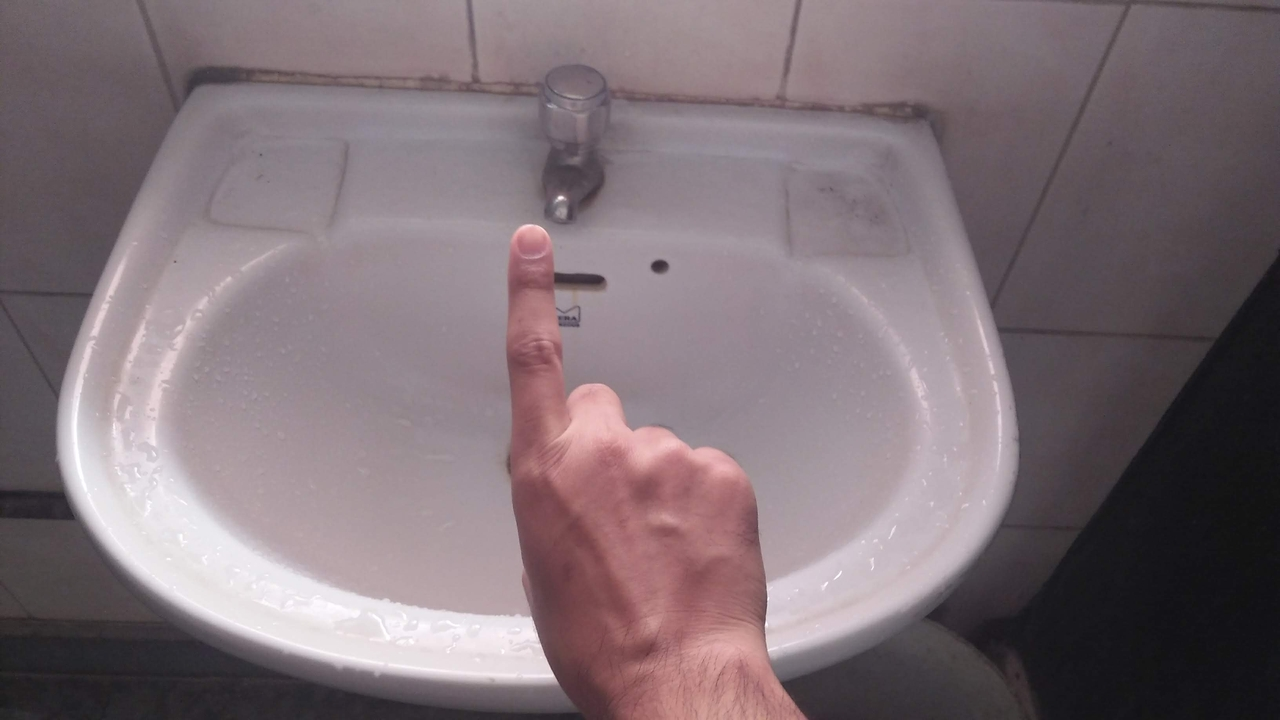fingertip: (502, 214, 554, 272)
